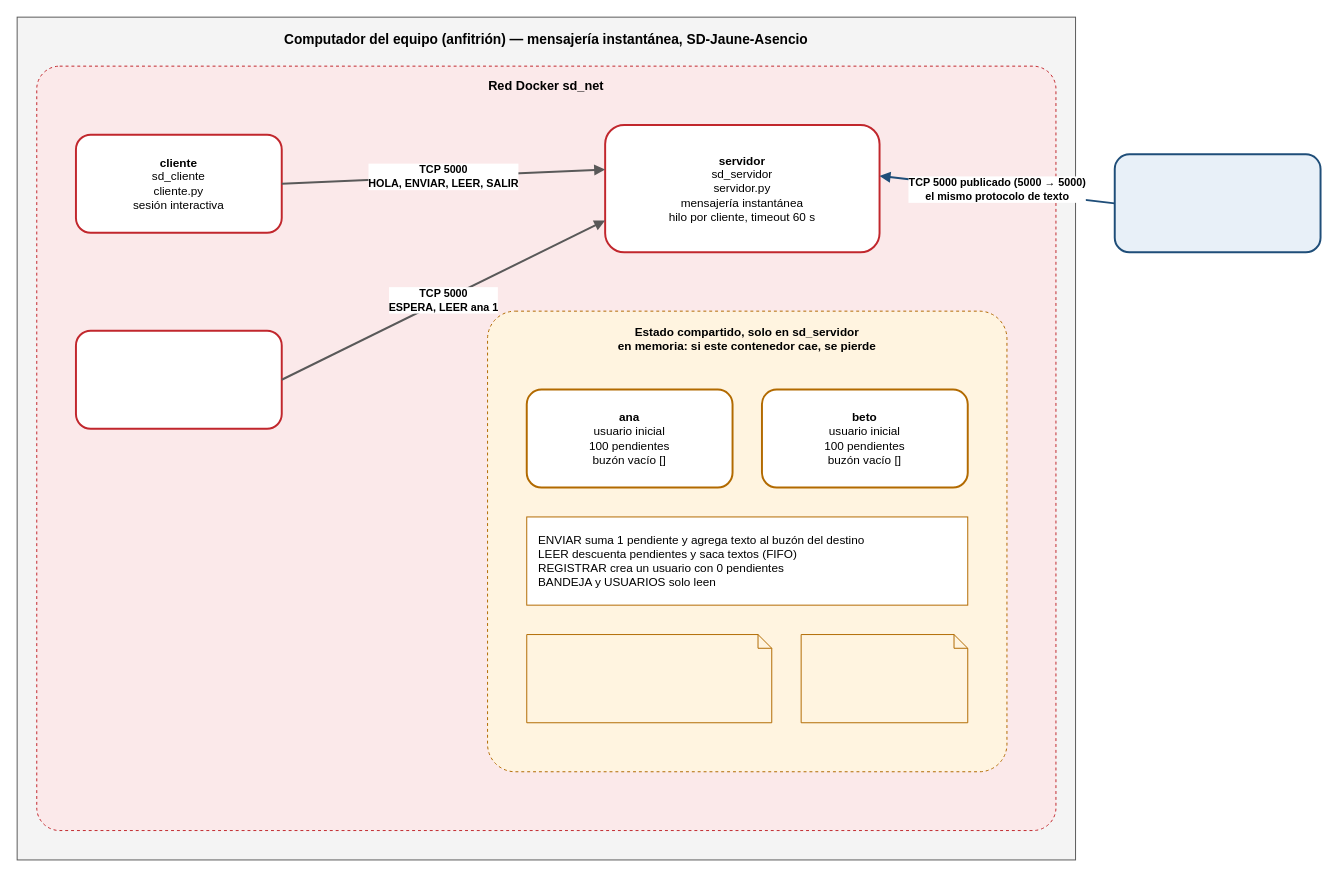
This 1339x877 diagram has some shape labels left out. Each missing label, with the centre of its shape:
carga sd_carga cliente_carga.py varios clientes a la vez: point (178, 379)
operaciones = 0 sube con cada comando del dominio, salvo HOLA y SALIR: point (884, 678)
Otro equipo su cliente red del laboratorio fuera de este computador: point (1217, 203)
Un solo Lock ENVIAR y LEER se serializan ESPERA no toma el Lock: point (649, 678)
